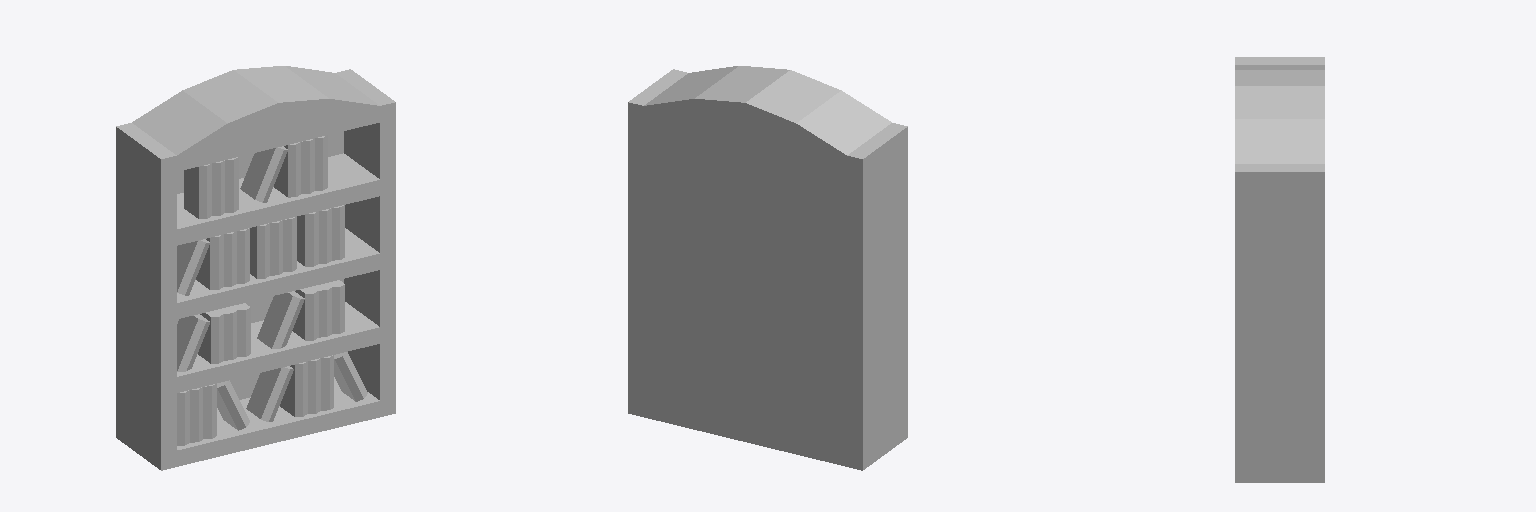
File: bookshelf.obj
3 renders of one model, left to right at view 1: azimuth 30°, elevation 25°; view 2: azimuth 150°, elevation 25°; view 3: azimuth 270°, elevation 25°, orthographic.
Visible parts, largest first — view 1: bookshelf; view 2: bookshelf; view 3: bookshelf.
Part boxes in pixels (x1,y1,x2,y2): bookshelf: (116,66,395,470); bookshelf: (628,66,907,470); bookshelf: (1235,57,1324,482).
Bounding box in the file's own units: 3 × 4.14 × 1.